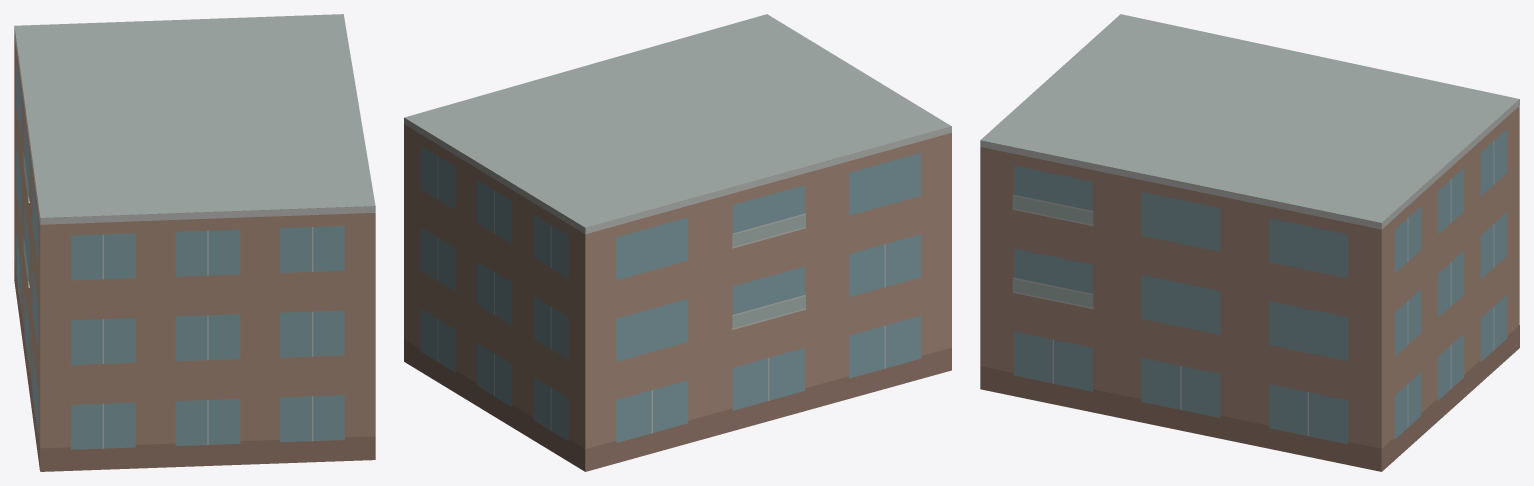
File: survey-upis-32926531.glb
3 renders of one model, left to right at view 1: azimuth 30°, elevation 25°; view 2: azimuth 150°, elevation 25°; view 3: azimuth 270°, elevation 25°, orthographic. The views are drawn at different scales.
Visible parts, largest first — view 1: survey-upis-32926531.tmp; view 2: survey-upis-32926531.tmp; view 3: survey-upis-32926531.tmp.
Part boxes in pixels (x1,y1,x2,y2): survey-upis-32926531.tmp: [14, 14, 375, 471]; survey-upis-32926531.tmp: [404, 14, 951, 471]; survey-upis-32926531.tmp: [980, 14, 1519, 471].
Size of the model in its own units: 16.47 by 9.15 by 17.98.
